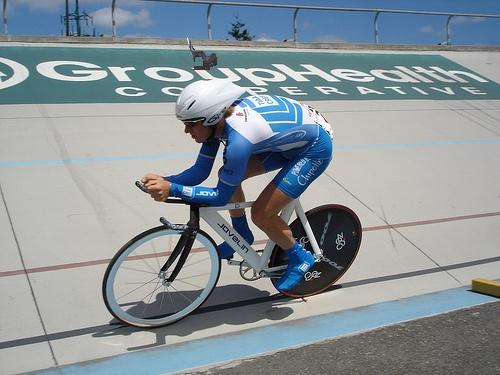tampered: (187, 37, 217, 70)
